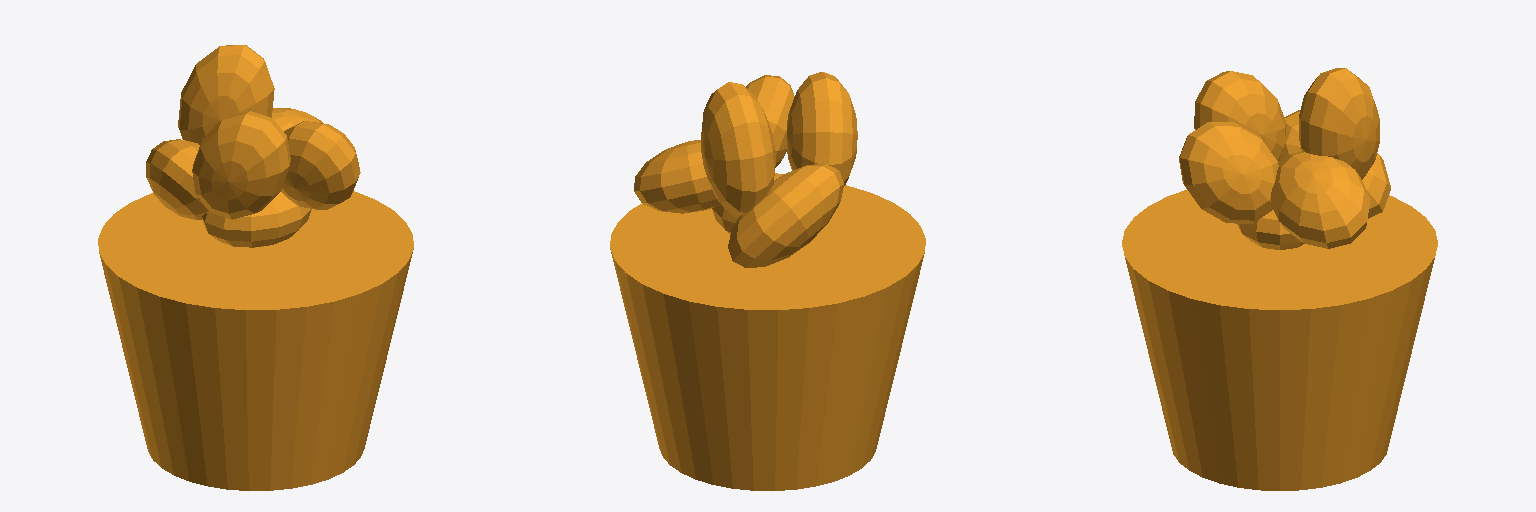
The model's file is gem_type_2.obj.
The picture shows the model from 3 angles: view 1: azimuth 30°, elevation 25°; view 2: azimuth 150°, elevation 25°; view 3: azimuth 270°, elevation 25°; orthographic projection.
Visible parts, largest first — view 1: gem_type_2; view 2: gem_type_2; view 3: gem_type_2.
Part boxes in pixels (x1,y1,x2,y2): gem_type_2: (98, 45, 413, 490); gem_type_2: (610, 72, 925, 490); gem_type_2: (1122, 68, 1437, 490).
Size of the model in its own units: 0.64 by 0.8441 by 0.64.